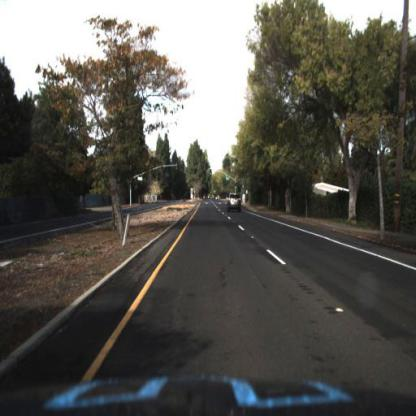car: (228, 193, 244, 215)
trafficLight-Green: (209, 168, 214, 181), (236, 182, 240, 195)
